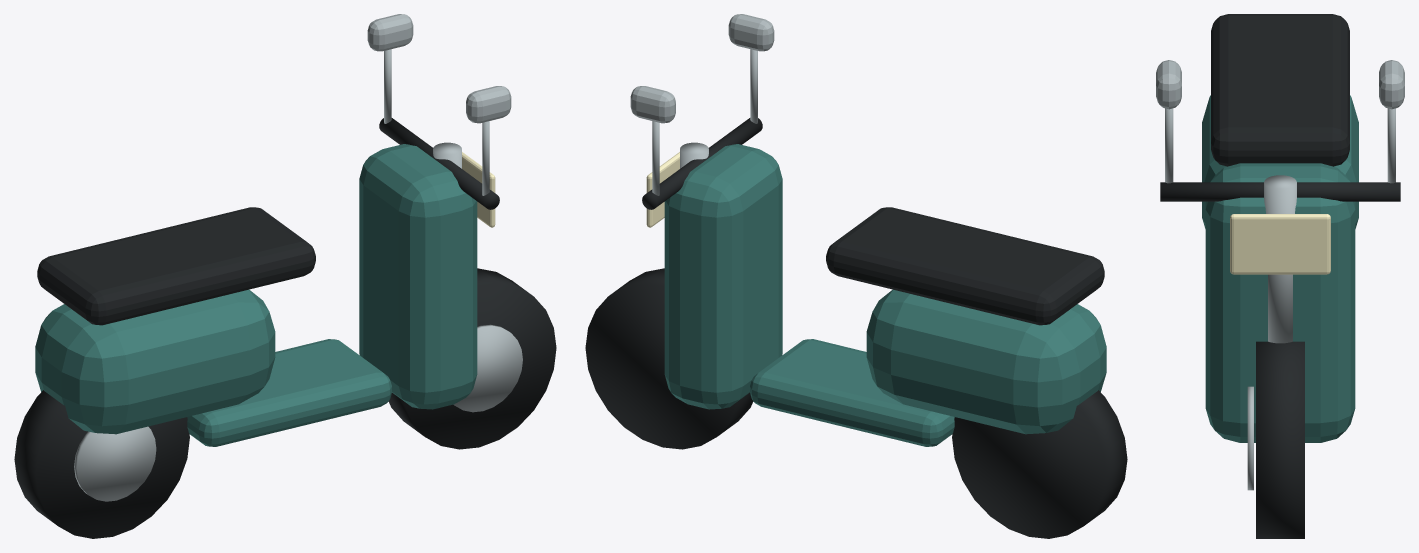
The model's file is scooter_candidate.glb.
3 renders of one model, left to right at view 1: azimuth 30°, elevation 25°; view 2: azimuth 150°, elevation 25°; view 3: azimuth 270°, elevation 25°, orthographic. The views are drawn at different scales.
Parts seen in each view (by area): view 1: front_fairing, rear_body, seat, scooter_wheel, floorboard, scooter_wheel.001, scooter_hub, scooter_hub.001, handlebar, scooter_mirror.001, scooter_mirror, scooter_headlight; view 2: front_fairing, rear_body, seat, scooter_wheel, scooter_wheel.001, floorboard, handlebar, scooter_mirror, scooter_mirror.001, scooter_headlight; view 3: front_fairing, seat, scooter_wheel.001, scooter_headlight, handlebar, steering_column, rear_body, scooter_mirror, scooter_mirror.001, scooter_hub.001, mirror_stem, mirror_stem.001.
Boxes of the visible parts, box(x1,y1,x2,y2) form: front_fairing: box(359, 144, 477, 409); rear_body: box(35, 289, 275, 434); seat: box(37, 207, 315, 325); scooter_wheel: box(14, 390, 189, 538); floorboard: box(187, 339, 391, 446); scooter_wheel.001: box(388, 268, 556, 449); scooter_hub: box(74, 426, 156, 501); scooter_hub.001: box(453, 324, 522, 412); handlebar: box(379, 118, 499, 209); scooter_mirror.001: box(367, 14, 413, 51); scooter_mirror: box(466, 86, 511, 123); scooter_headlight: box(462, 152, 495, 227); front_fairing: box(664, 144, 782, 409); rear_body: box(866, 289, 1106, 434); seat: box(826, 207, 1104, 325); scooter_wheel: box(952, 390, 1127, 538); scooter_wheel.001: box(585, 268, 753, 449); floorboard: box(750, 339, 954, 446); handlebar: box(642, 118, 762, 209); scooter_mirror: box(728, 14, 774, 51); scooter_mirror.001: box(630, 86, 675, 123); scooter_headlight: box(646, 152, 679, 227); front_fairing: box(1205, 163, 1355, 442); seat: box(1211, 14, 1349, 166); scooter_wheel.001: box(1256, 341, 1304, 538); scooter_headlight: box(1230, 214, 1330, 274); handlebar: box(1160, 182, 1400, 201); steering_column: box(1264, 175, 1296, 343); rear_body: box(1202, 95, 1358, 228); scooter_mirror: box(1156, 60, 1181, 109); scooter_mirror.001: box(1379, 60, 1404, 109); scooter_hub.001: box(1247, 386, 1253, 490); mirror_stem: box(1165, 108, 1173, 183); mirror_stem.001: box(1387, 108, 1395, 183).
Size of the model in its own units: 1.96 by 1.41 by 0.715.
